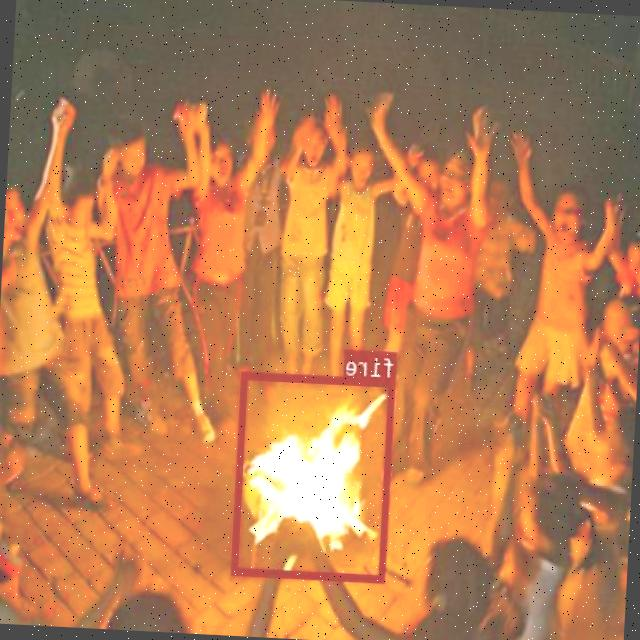fire: (233, 371, 397, 581)
